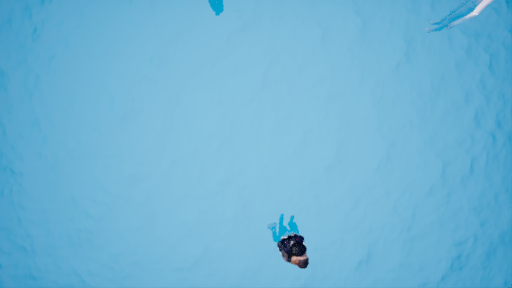person: (262, 206, 317, 267), (419, 1, 498, 37)
